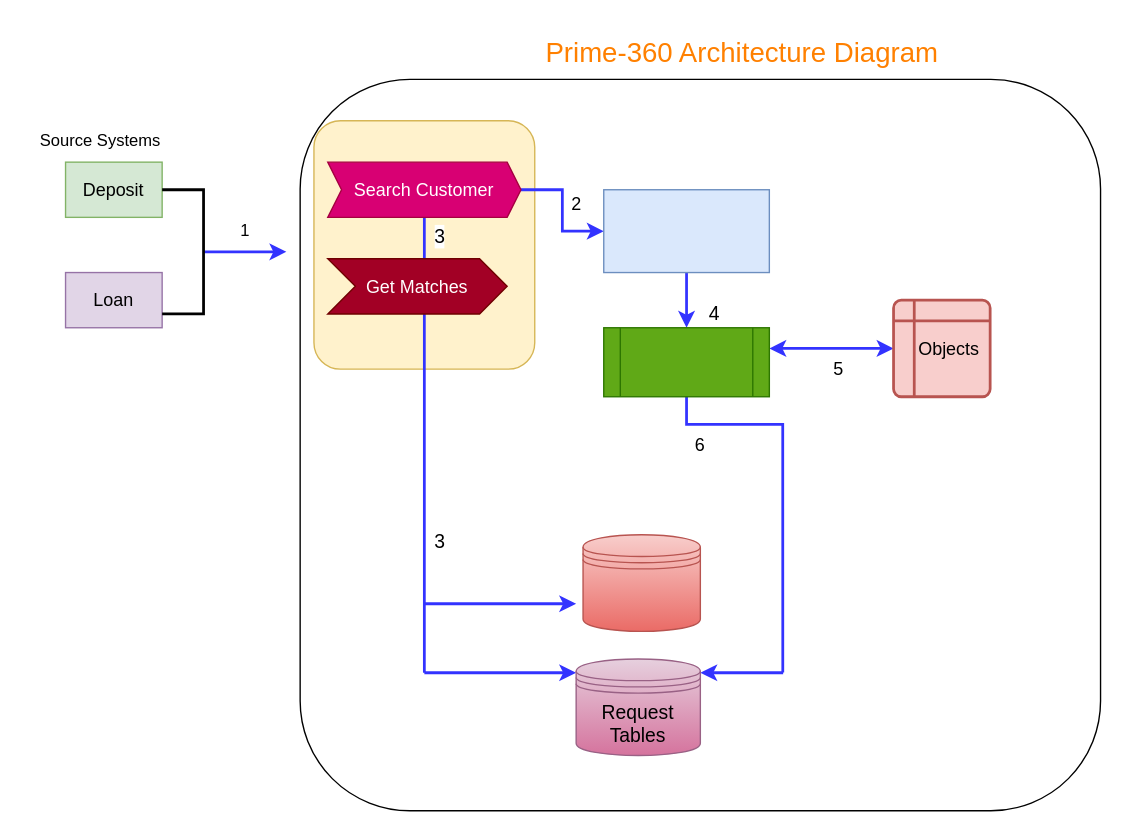
This 1125x835 diagram has some shape labels left out. Each missing label, with the centre of its shape:
"Intraday Tables" goes at point 641,582.
"MATCHING INTRADAY DELETE" goes at point 685,230.
"Prime360 Engine" goes at point 685,361.
